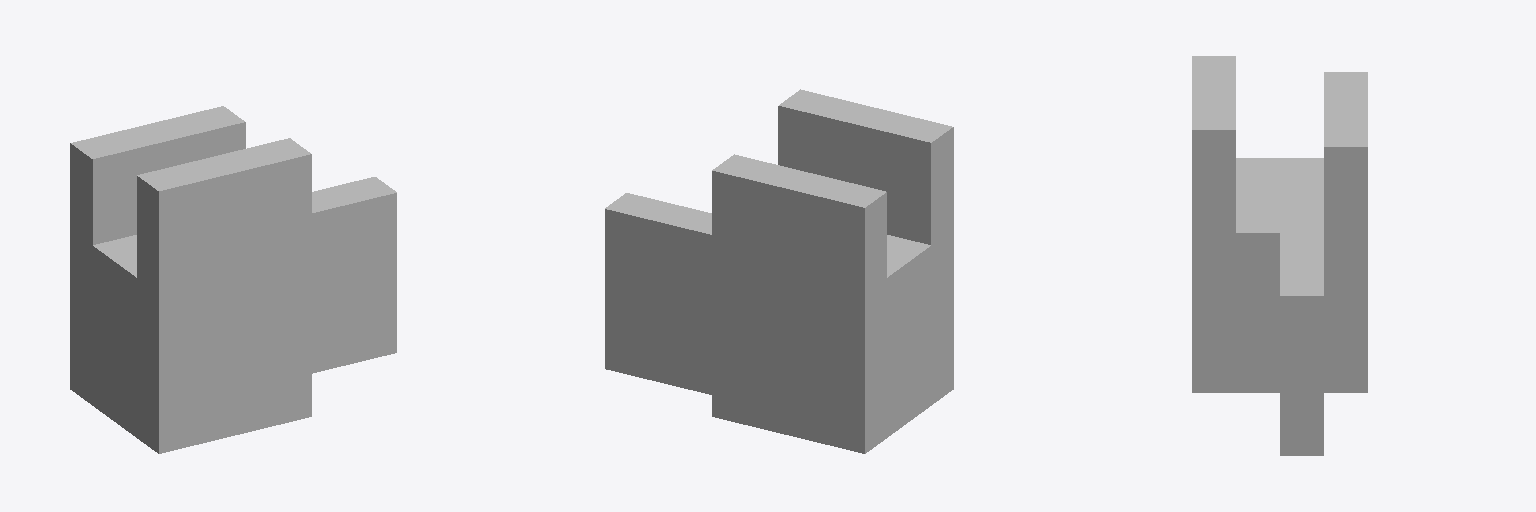
Rendered from newsun.obj.
The picture shows the model from 3 angles: view 1: azimuth 30°, elevation 25°; view 2: azimuth 150°, elevation 25°; view 3: azimuth 270°, elevation 25°; orthographic projection.
Visible parts, largest first — view 1: Cube_Cube.001; view 2: Cube_Cube.001; view 3: Cube_Cube.001.
Boxes of the visible parts, x1=… form: Cube_Cube.001: x1=70, y1=106, x2=396, y2=453; Cube_Cube.001: x1=605, y1=89, x2=953, y2=453; Cube_Cube.001: x1=1192, y1=56, x2=1367, y2=455.
Bounding box in the file's own units: 3.69 × 3.28 × 2.